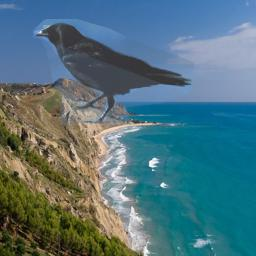Crow: (33, 19, 194, 125)
